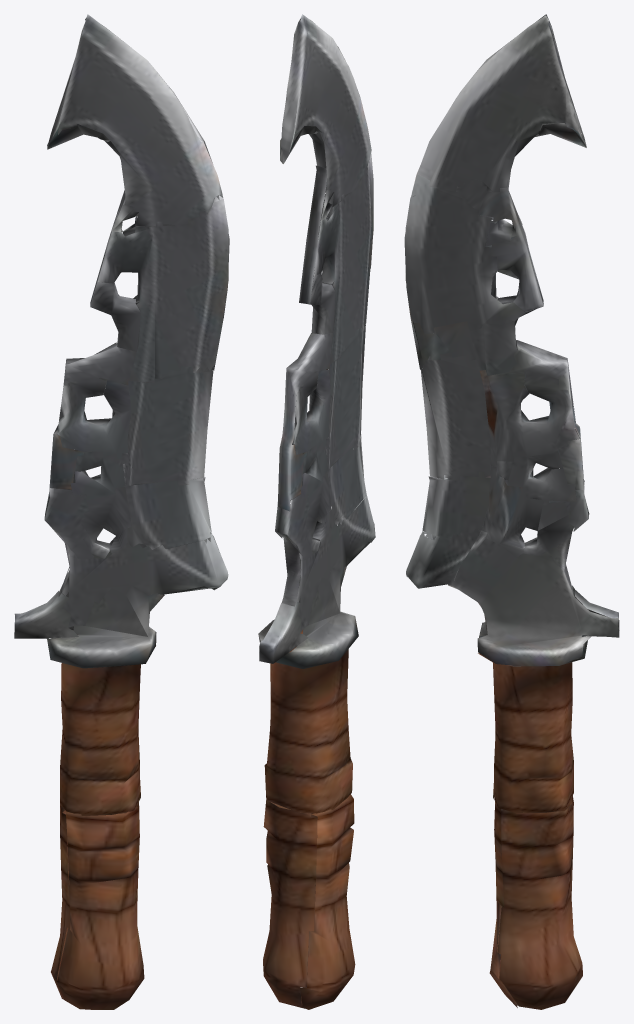
File: weapon_kujang.glb
3 renders of one model, left to right at view 1: azimuth 90°, elevation 25°; view 2: azimuth 150°, elevation 25°; view 3: azimuth 270°, elevation 25°, orthographic.
Visible parts, largest first — view 1: weapon_kujang; view 2: weapon_kujang; view 3: weapon_kujang.
Part boxes in pixels (x1,y1,x2,y2): weapon_kujang: [14, 14, 229, 1009]; weapon_kujang: [258, 14, 375, 1009]; weapon_kujang: [404, 14, 619, 1009].
Bounding box in the file's own units: 0.0344 × 0.4207 × 0.0827.
1 material, 1 textured.
